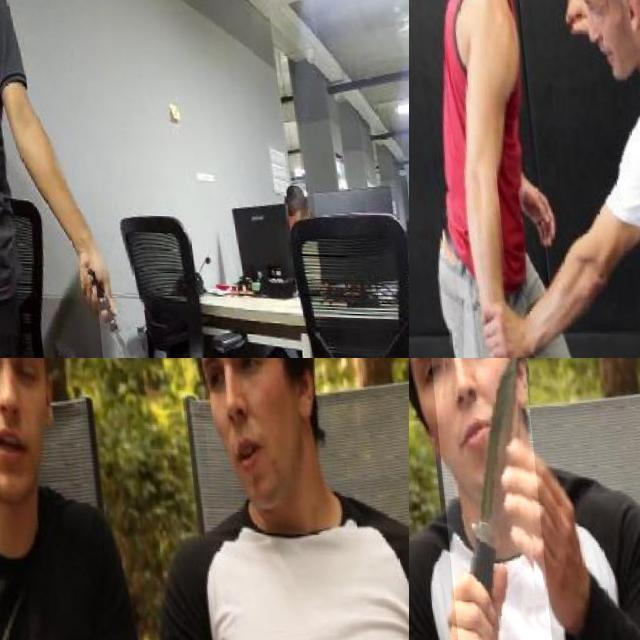-: (426, 358, 544, 640), (0, 358, 40, 514), (88, 295, 141, 358)
